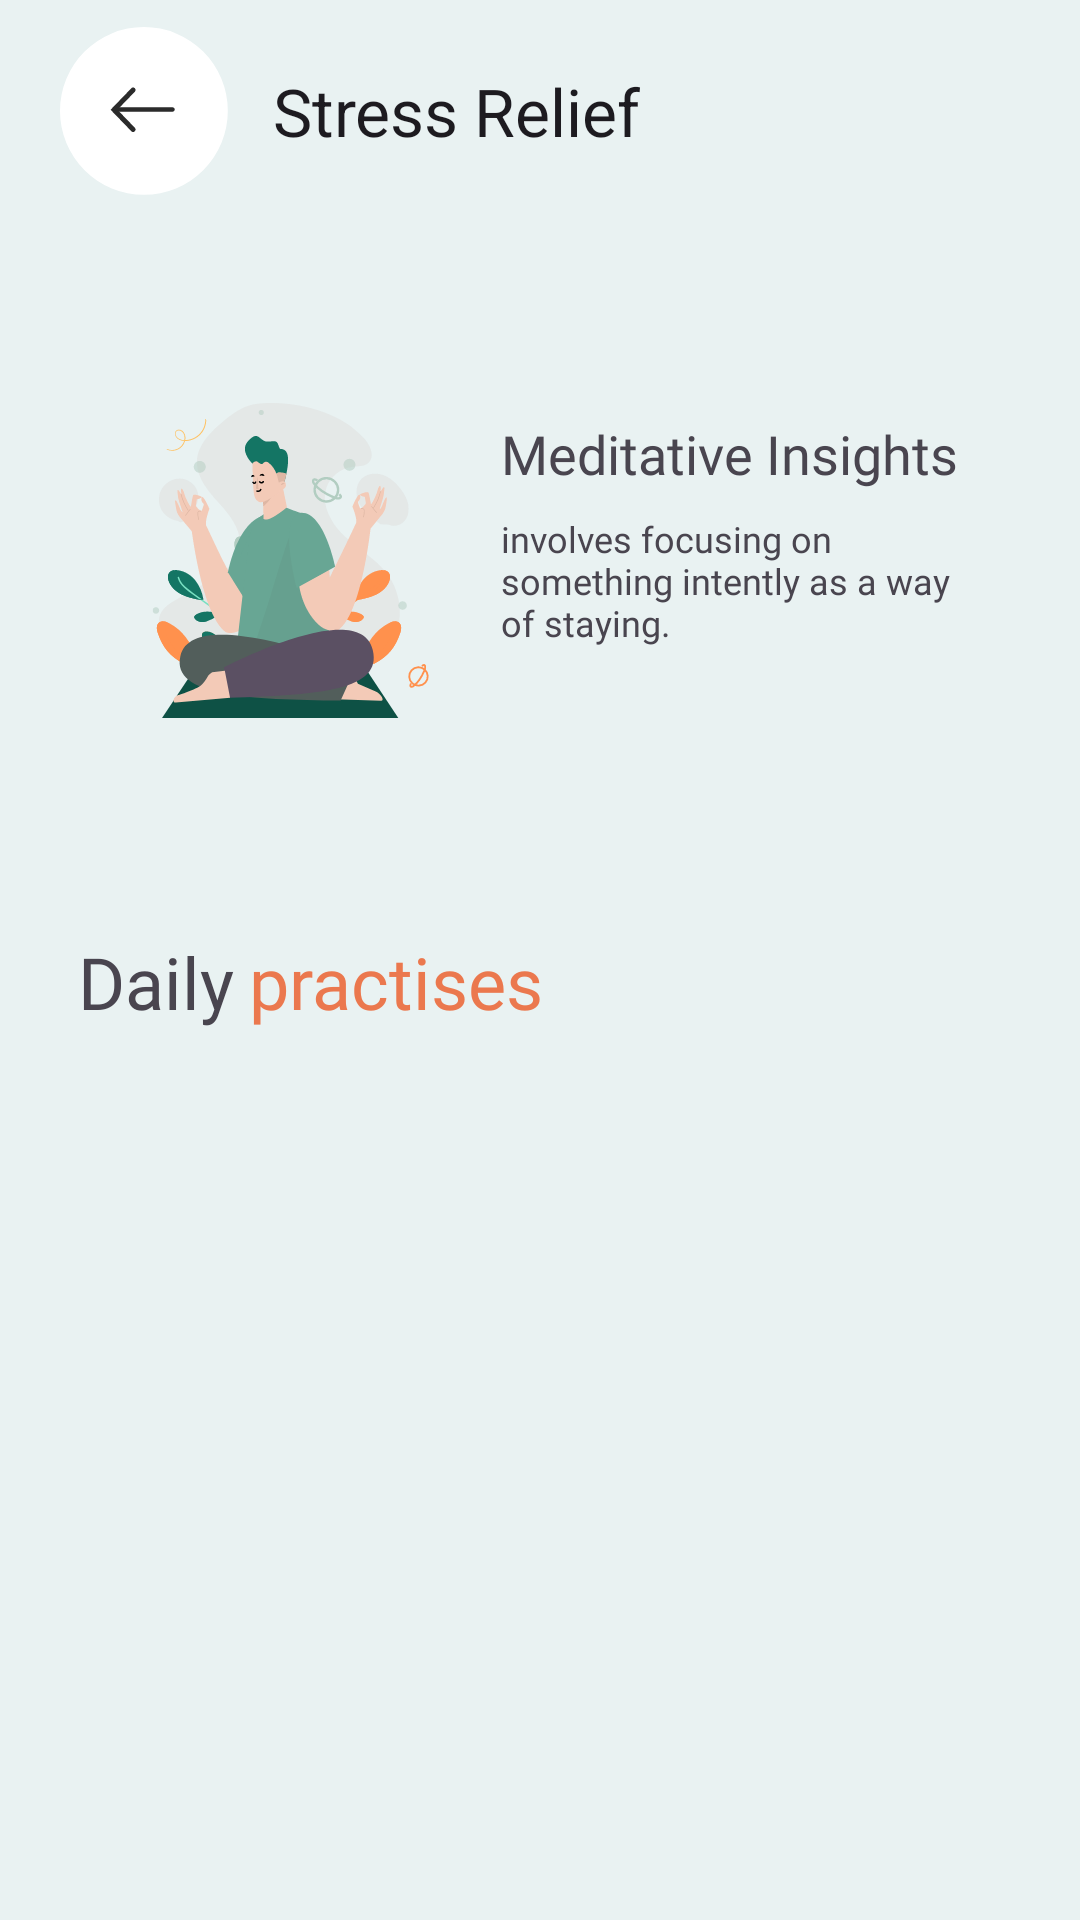

Icons on this 1080*1920 Android screen, each with the point to tap as (x=x, y=y):
meditation illustraion: (x=291, y=564)
